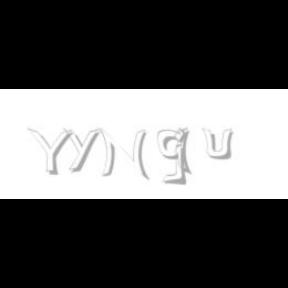N: (98, 128, 148, 180)
Y: (27, 128, 73, 176)
j: (172, 128, 200, 186)
q: (157, 128, 193, 176)
u: (202, 128, 236, 160)
y: (63, 128, 103, 172)
